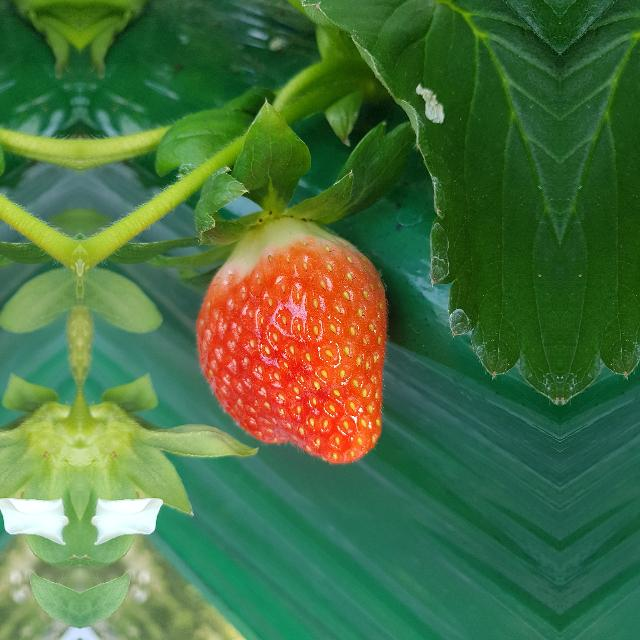Health_100: (195, 216, 388, 464)
